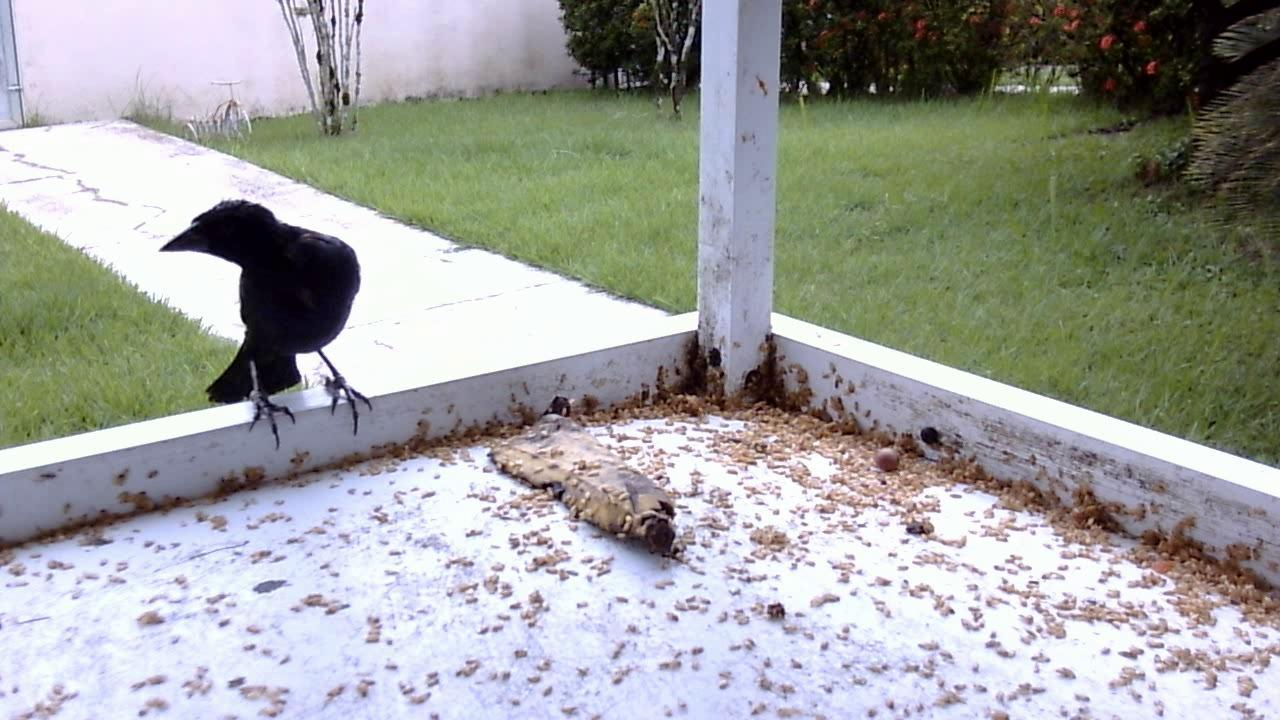chupim: (151, 187, 381, 458)
